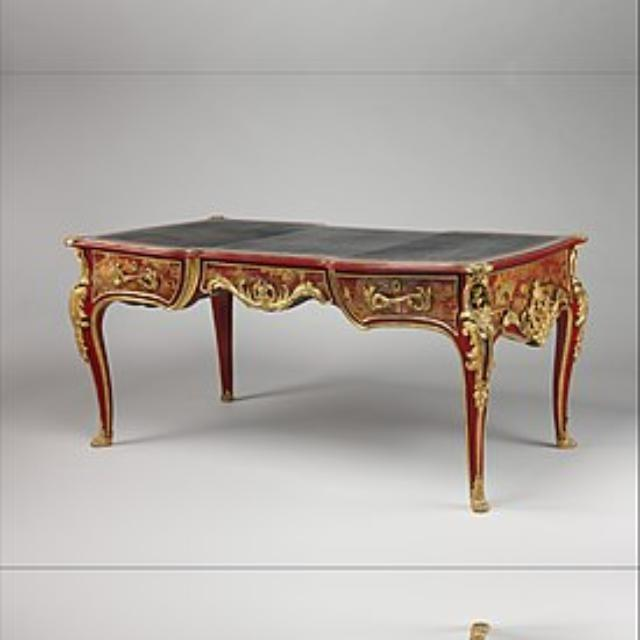obstacle: (40, 152, 598, 526), (40, 609, 598, 640)
